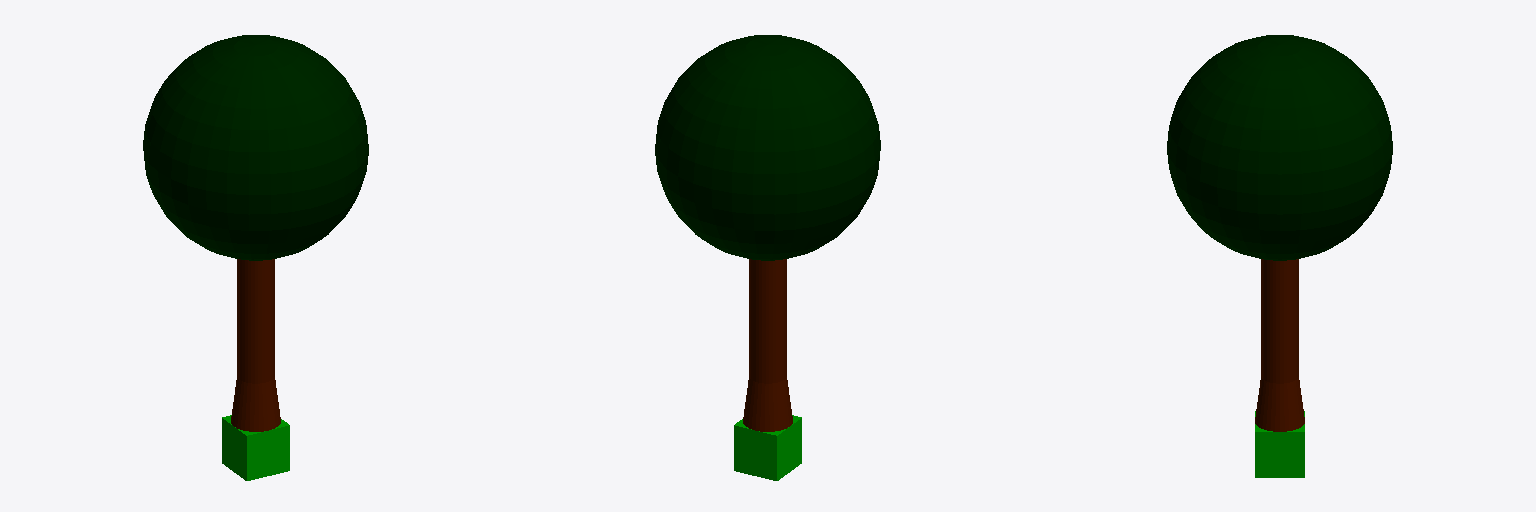
File: 75Trees4.obj
3 renders of one model, left to right at view 1: azimuth 30°, elevation 25°; view 2: azimuth 150°, elevation 25°; view 3: azimuth 270°, elevation 25°, orthographic.
Visible parts, largest first — view 1: Cube; view 2: Cube; view 3: Cube.
Boxes of the visible parts, box(x1,y1,x2,y2) form: Cube: box(143, 35, 368, 480); Cube: box(655, 35, 880, 480); Cube: box(1167, 35, 1392, 477).
Bounding box in the file's own units: 9 × 18.5 × 9.